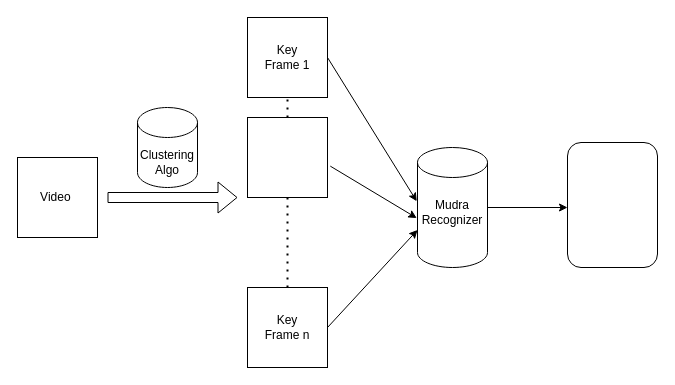
Image size: 675x385. Some labels were removed from this diagram. Here are the shapes that lost their labels. From the top down, the centre of each, then its label:
point 287,157: Key Frame 2
point 612,205: Get Angle and Position Data from each Key Frame
